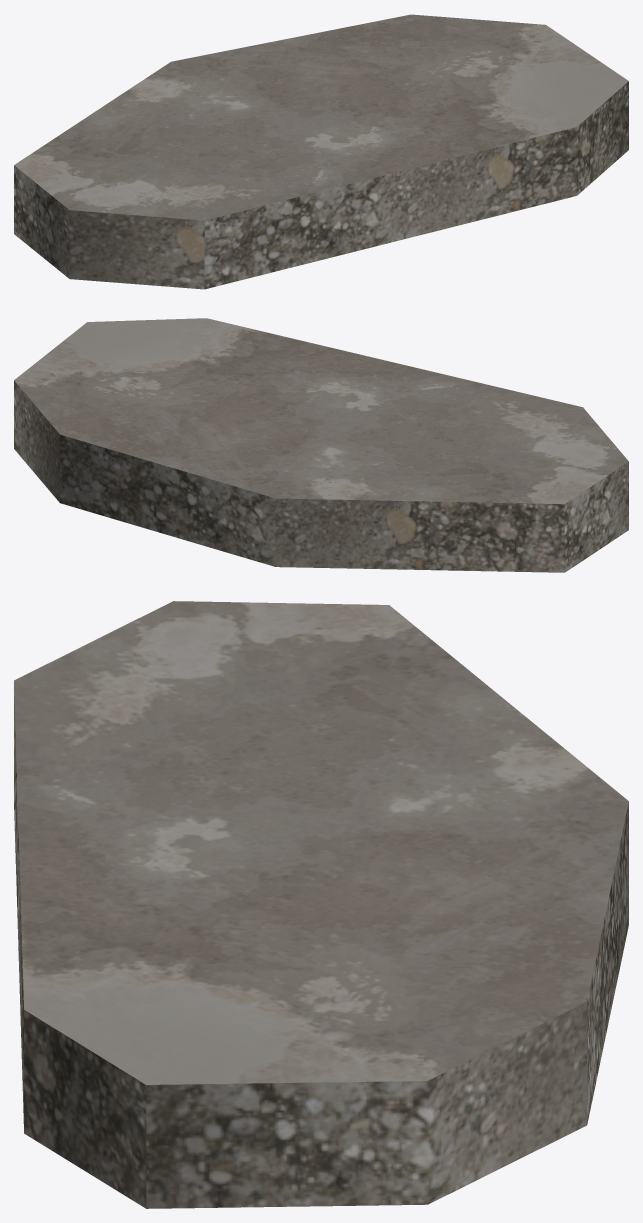
File: Rubble_B.fbx
3 renders of one model, top to bottom at view 1: azimuth 30°, elevation 25°; view 2: azimuth 150°, elevation 25°; view 3: azimuth 270°, elevation 25°, orthographic. The views are drawn at different scales.
Parts seen in each view (by area): view 1: Rubble, Broken_Concrete; view 2: Rubble, Broken_Concrete; view 3: Rubble, Broken_Concrete.
Boxes of the visible parts, x1,y1,x2,y2 form: Rubble: (14,14,628,220); Broken_Concrete: (14,81,628,289); Rubble: (14,318,628,504); Broken_Concrete: (14,380,628,572); Rubble: (14,601,628,1084); Broken_Concrete: (14,664,628,1208).
Size of the model in its own units: 168 by 20 by 90.01.
